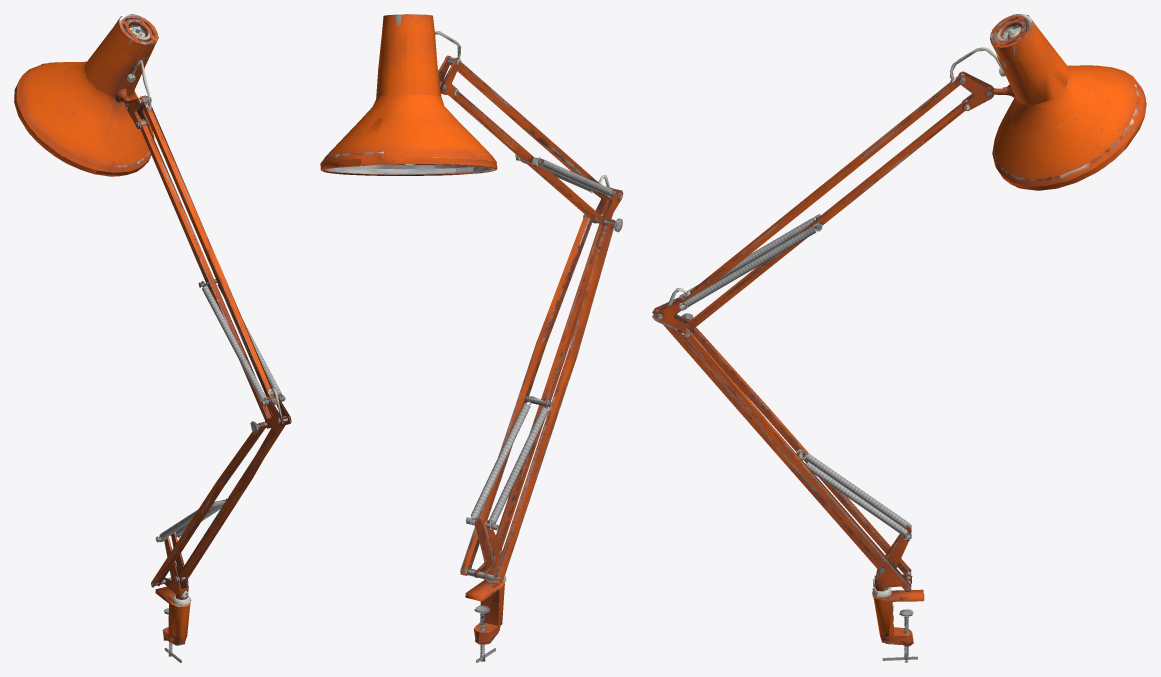
File: fu_lamp_arm.fbx
The picture shows the model from 3 angles, left to right: view 1: azimuth 30°, elevation 25°; view 2: azimuth 150°, elevation 25°; view 3: azimuth 270°, elevation 25°; orthographic projection. The views are drawn at different scales.
Parts seen in each view (by area): view 1: fu_lamp_arm_LOD0; view 2: fu_lamp_arm_LOD0; view 3: fu_lamp_arm_LOD0.
Part boxes in pixels (<box>): fu_lamp_arm_LOD0: <box>14,14,291,662</box>; fu_lamp_arm_LOD0: <box>320,14,623,662</box>; fu_lamp_arm_LOD0: <box>652,14,1146,662</box>.
Size of what is drawn, in the model's own units: 0.2021 by 0.8931 by 0.6155.
